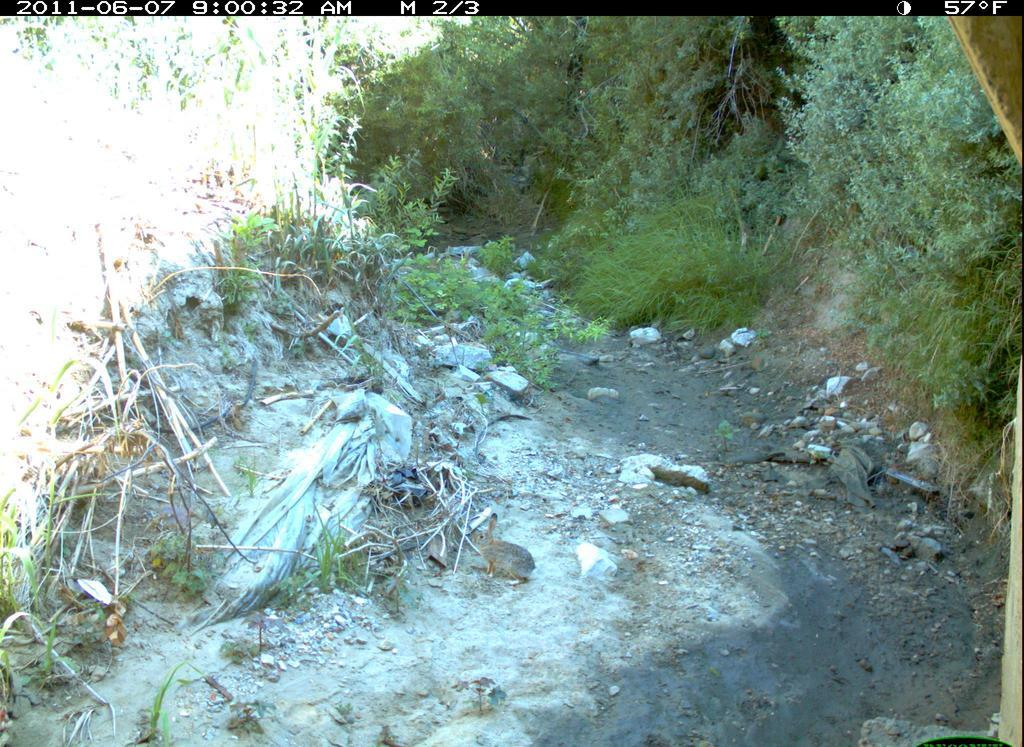rabbit: (473, 513, 541, 591)
